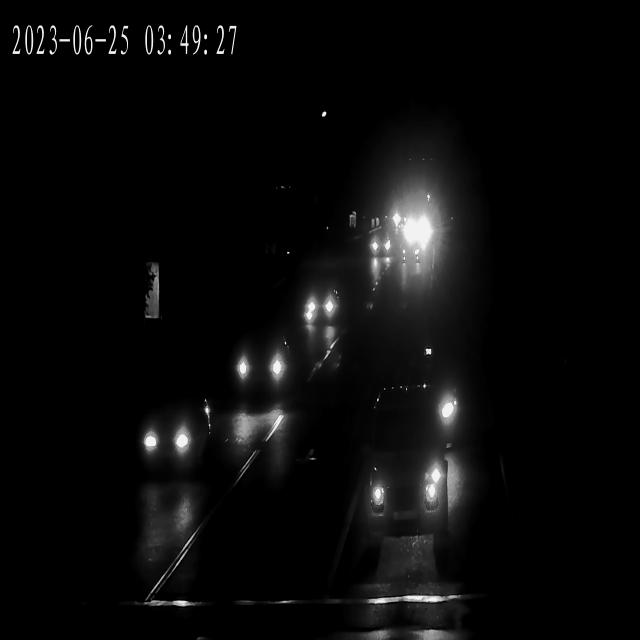Car: (355, 441, 449, 534), (126, 385, 215, 480), (384, 350, 466, 445), (228, 326, 296, 394), (297, 277, 343, 325), (400, 216, 432, 242), (367, 232, 394, 260), (398, 220, 429, 244)
